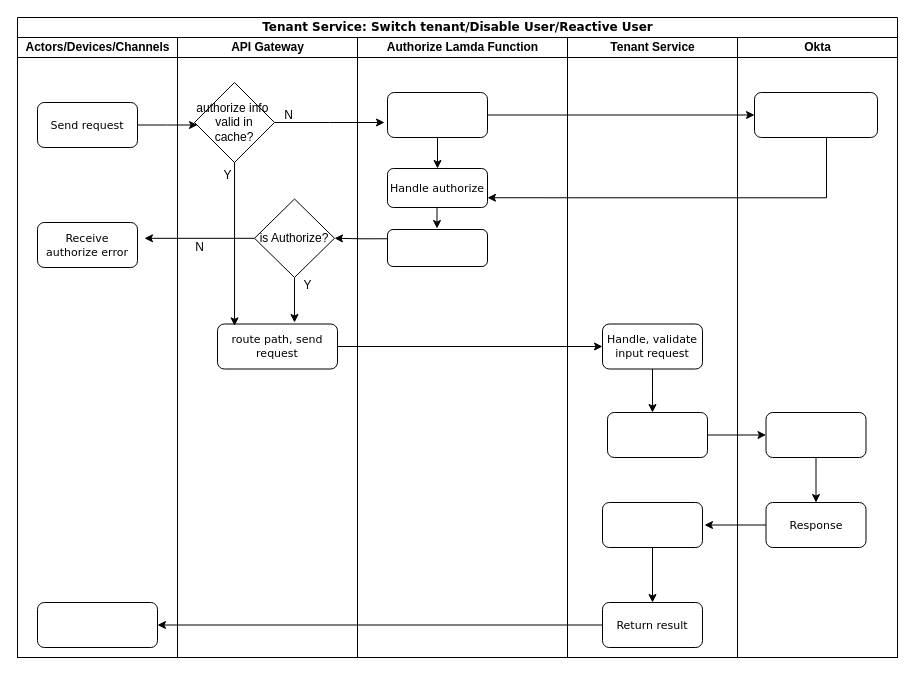
This 915x675 diagram has some shape labels left out. Here are the shapes that lost their labels. From the top down, the centre of each, then its label:
the point at 437,115: Integrate Okta
the point at 816,115: Return integration result
the point at 437,247: Return authorize result
the point at 657,435: Call Okta API
the point at 815,435: Imple request
the point at 652,525: Handle, validate response
the point at 97,625: Receive Result
